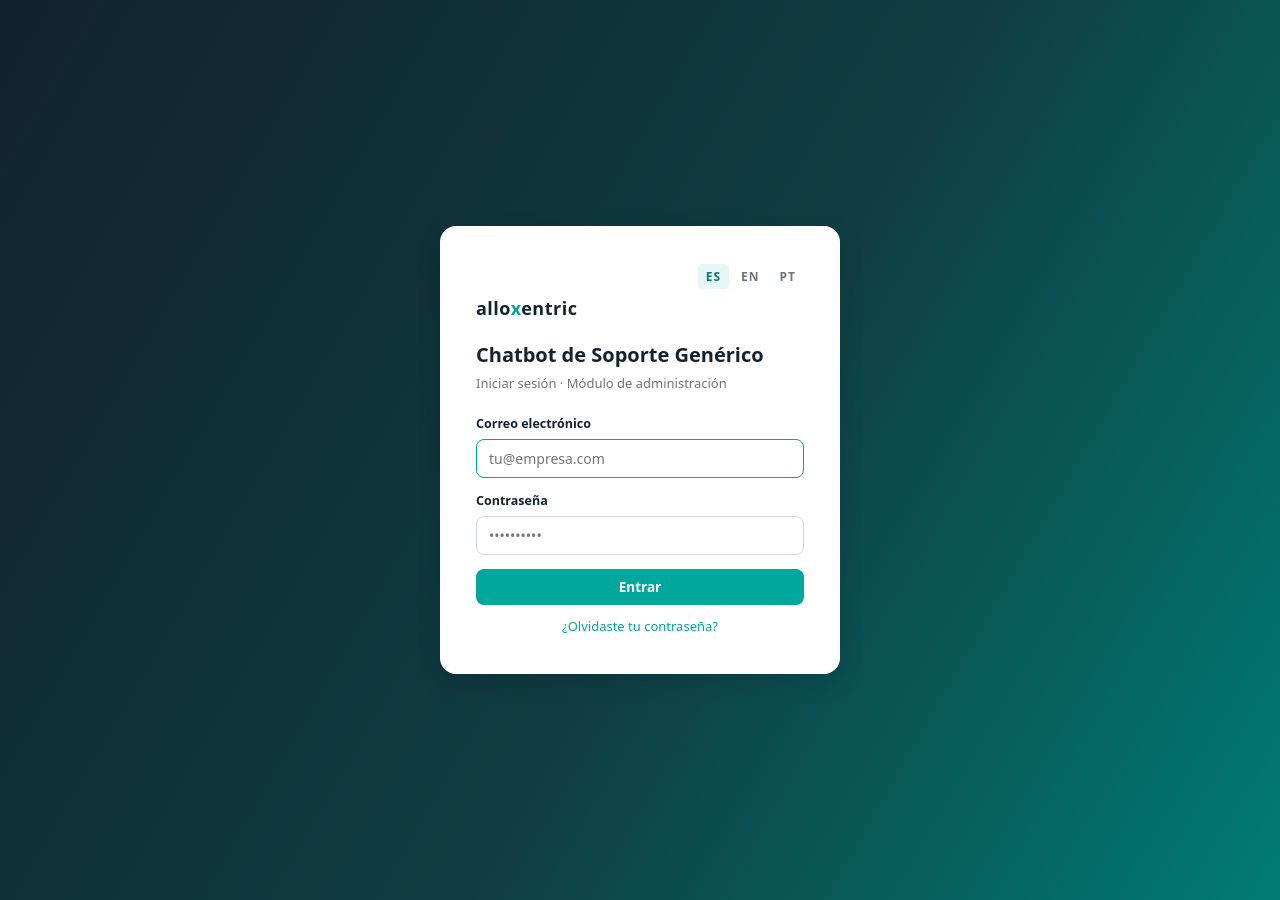
Login › con credenciales incorrectas muestra el error y no guarda sesión
Type "u@test.com" into the field with placeholder "tu@empresa.com".
click(640, 458); type("u@test.com")  # box left=476, top=439, right=804, bottom=478
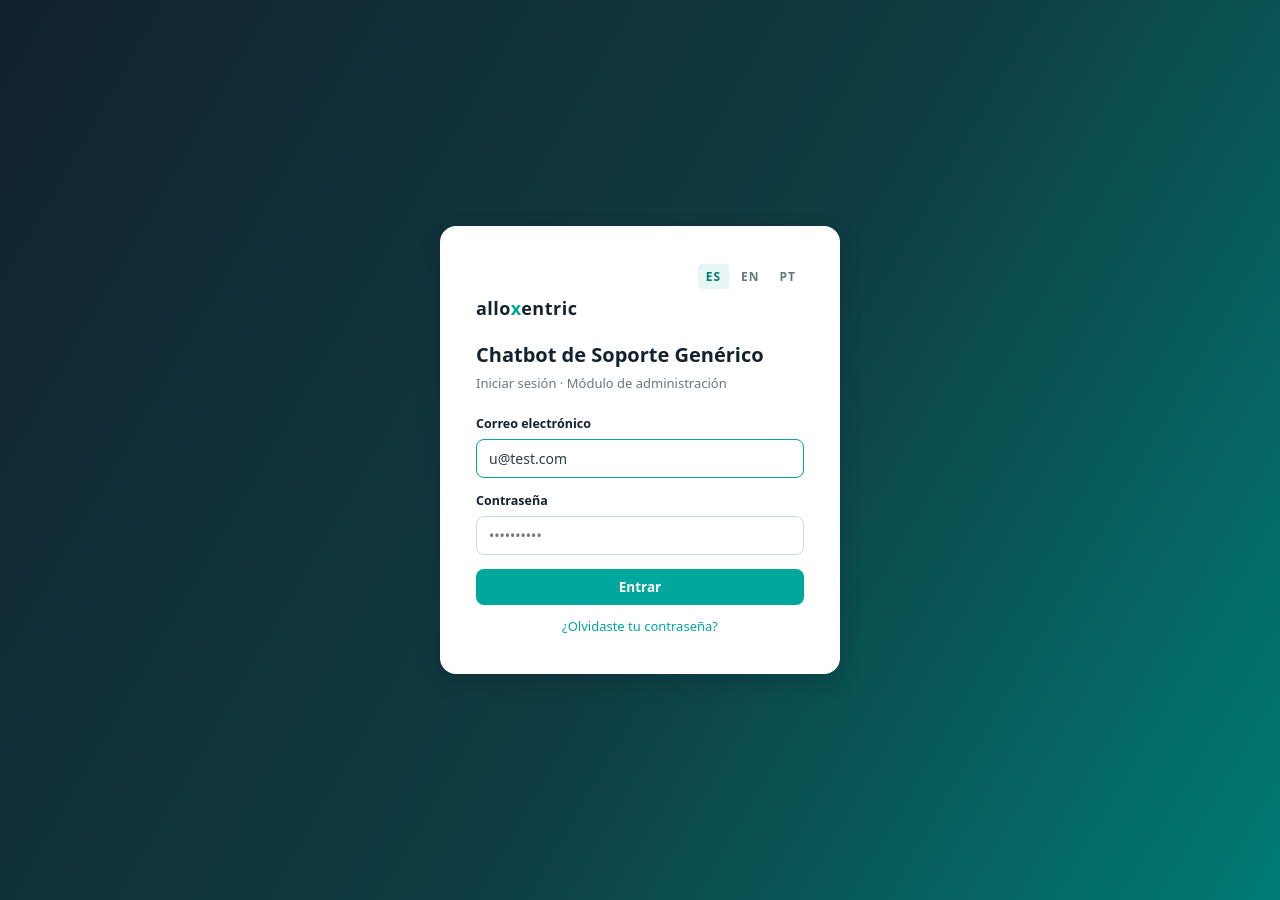
Type "malamala1" into the password field with placeholder "••••••••••".
click(640, 535); type("malamala1")  # box left=476, top=516, right=804, bottom=555
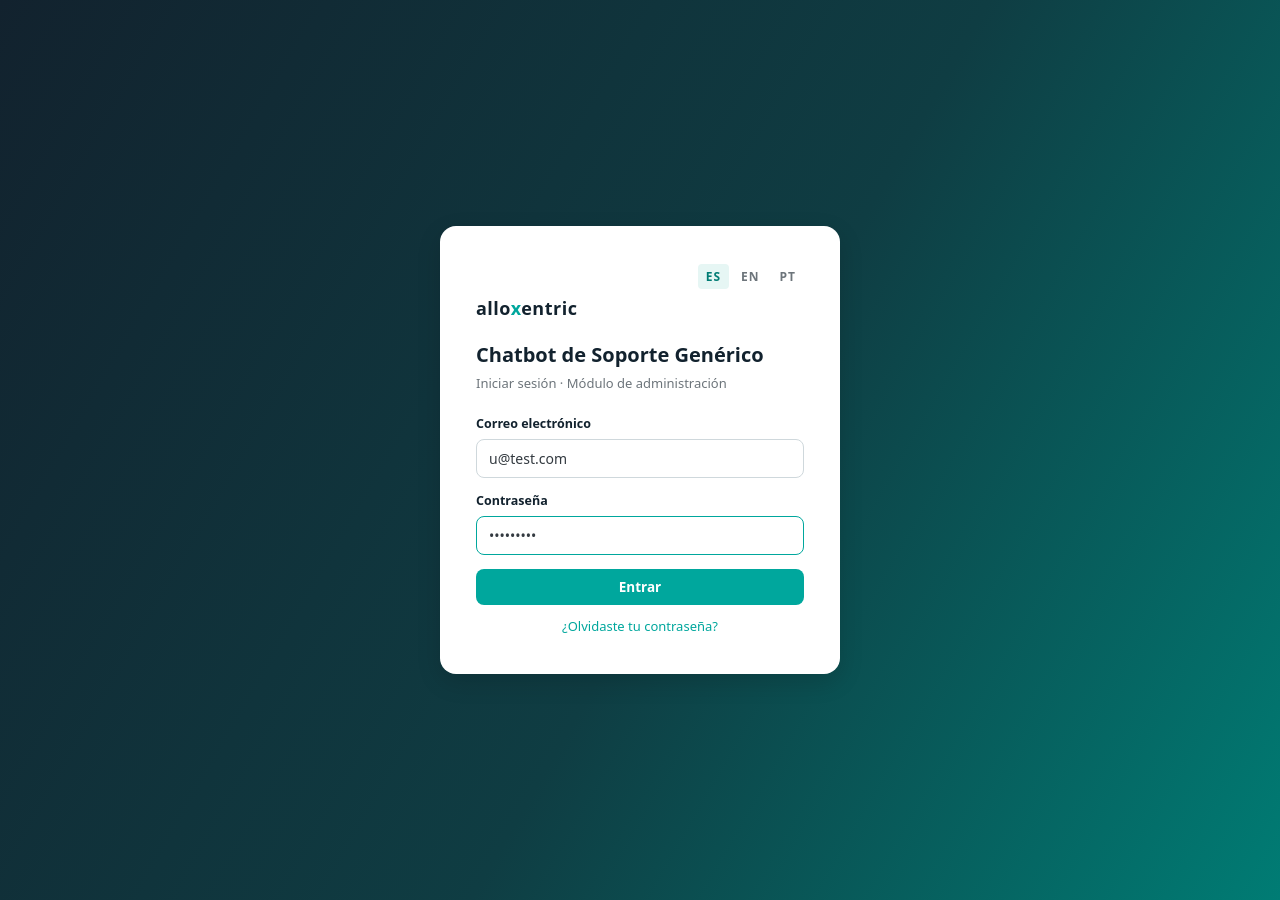
Click the button "Entrar".
click(640, 587)  # box left=476, top=569, right=804, bottom=605
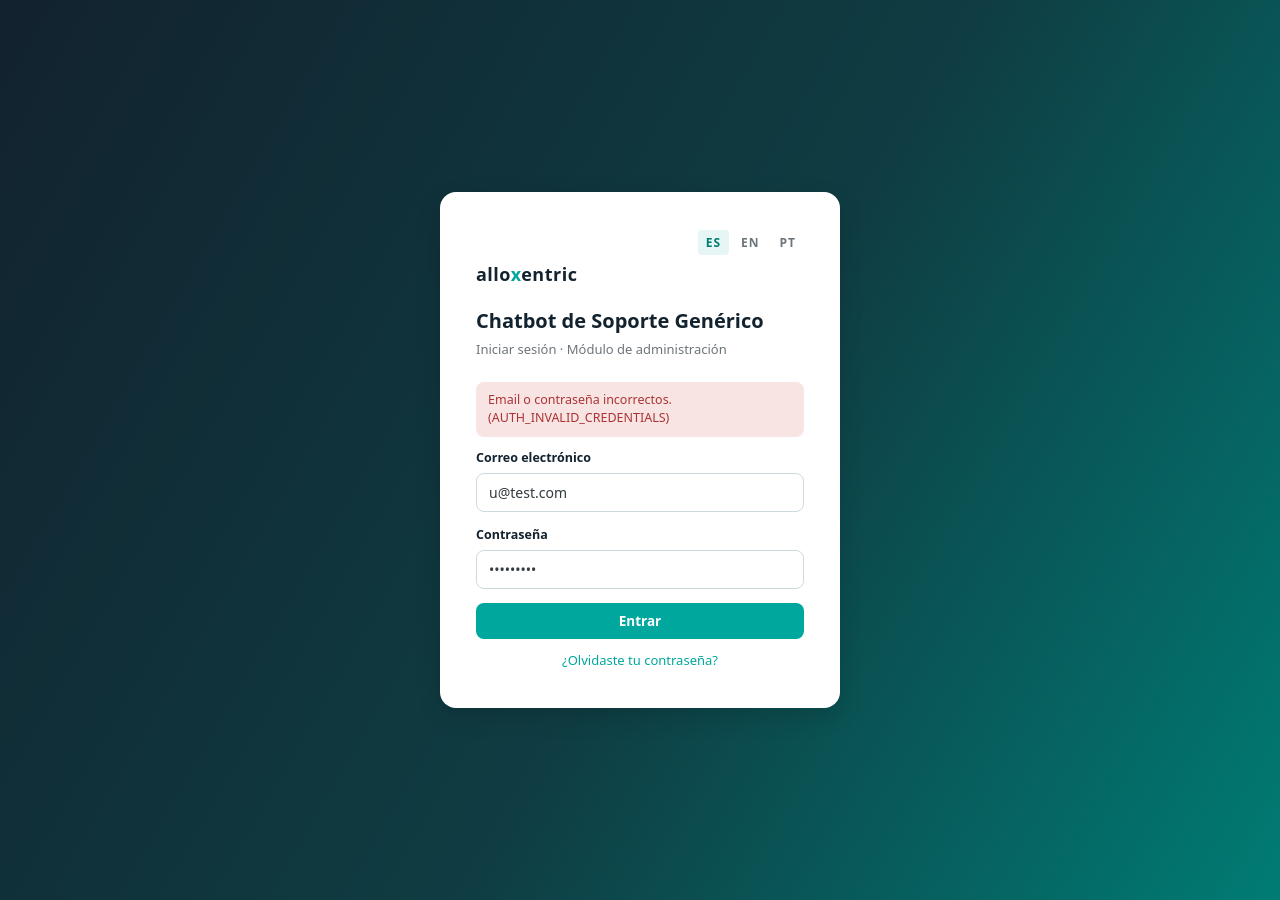
Result: the text "Email o contraseña incorrectos. (AUTH_INVALID_CREDENTIALS)" is shown at left=476, top=382, right=804, bottom=437
